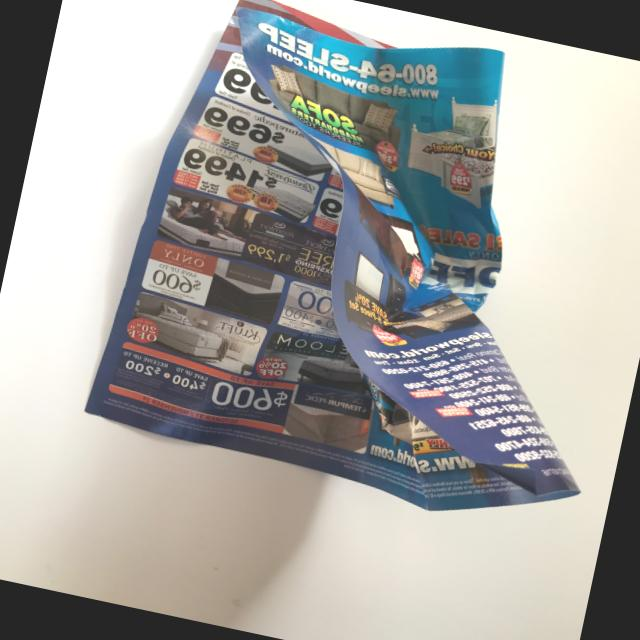Paper: (75, 0, 640, 544)
